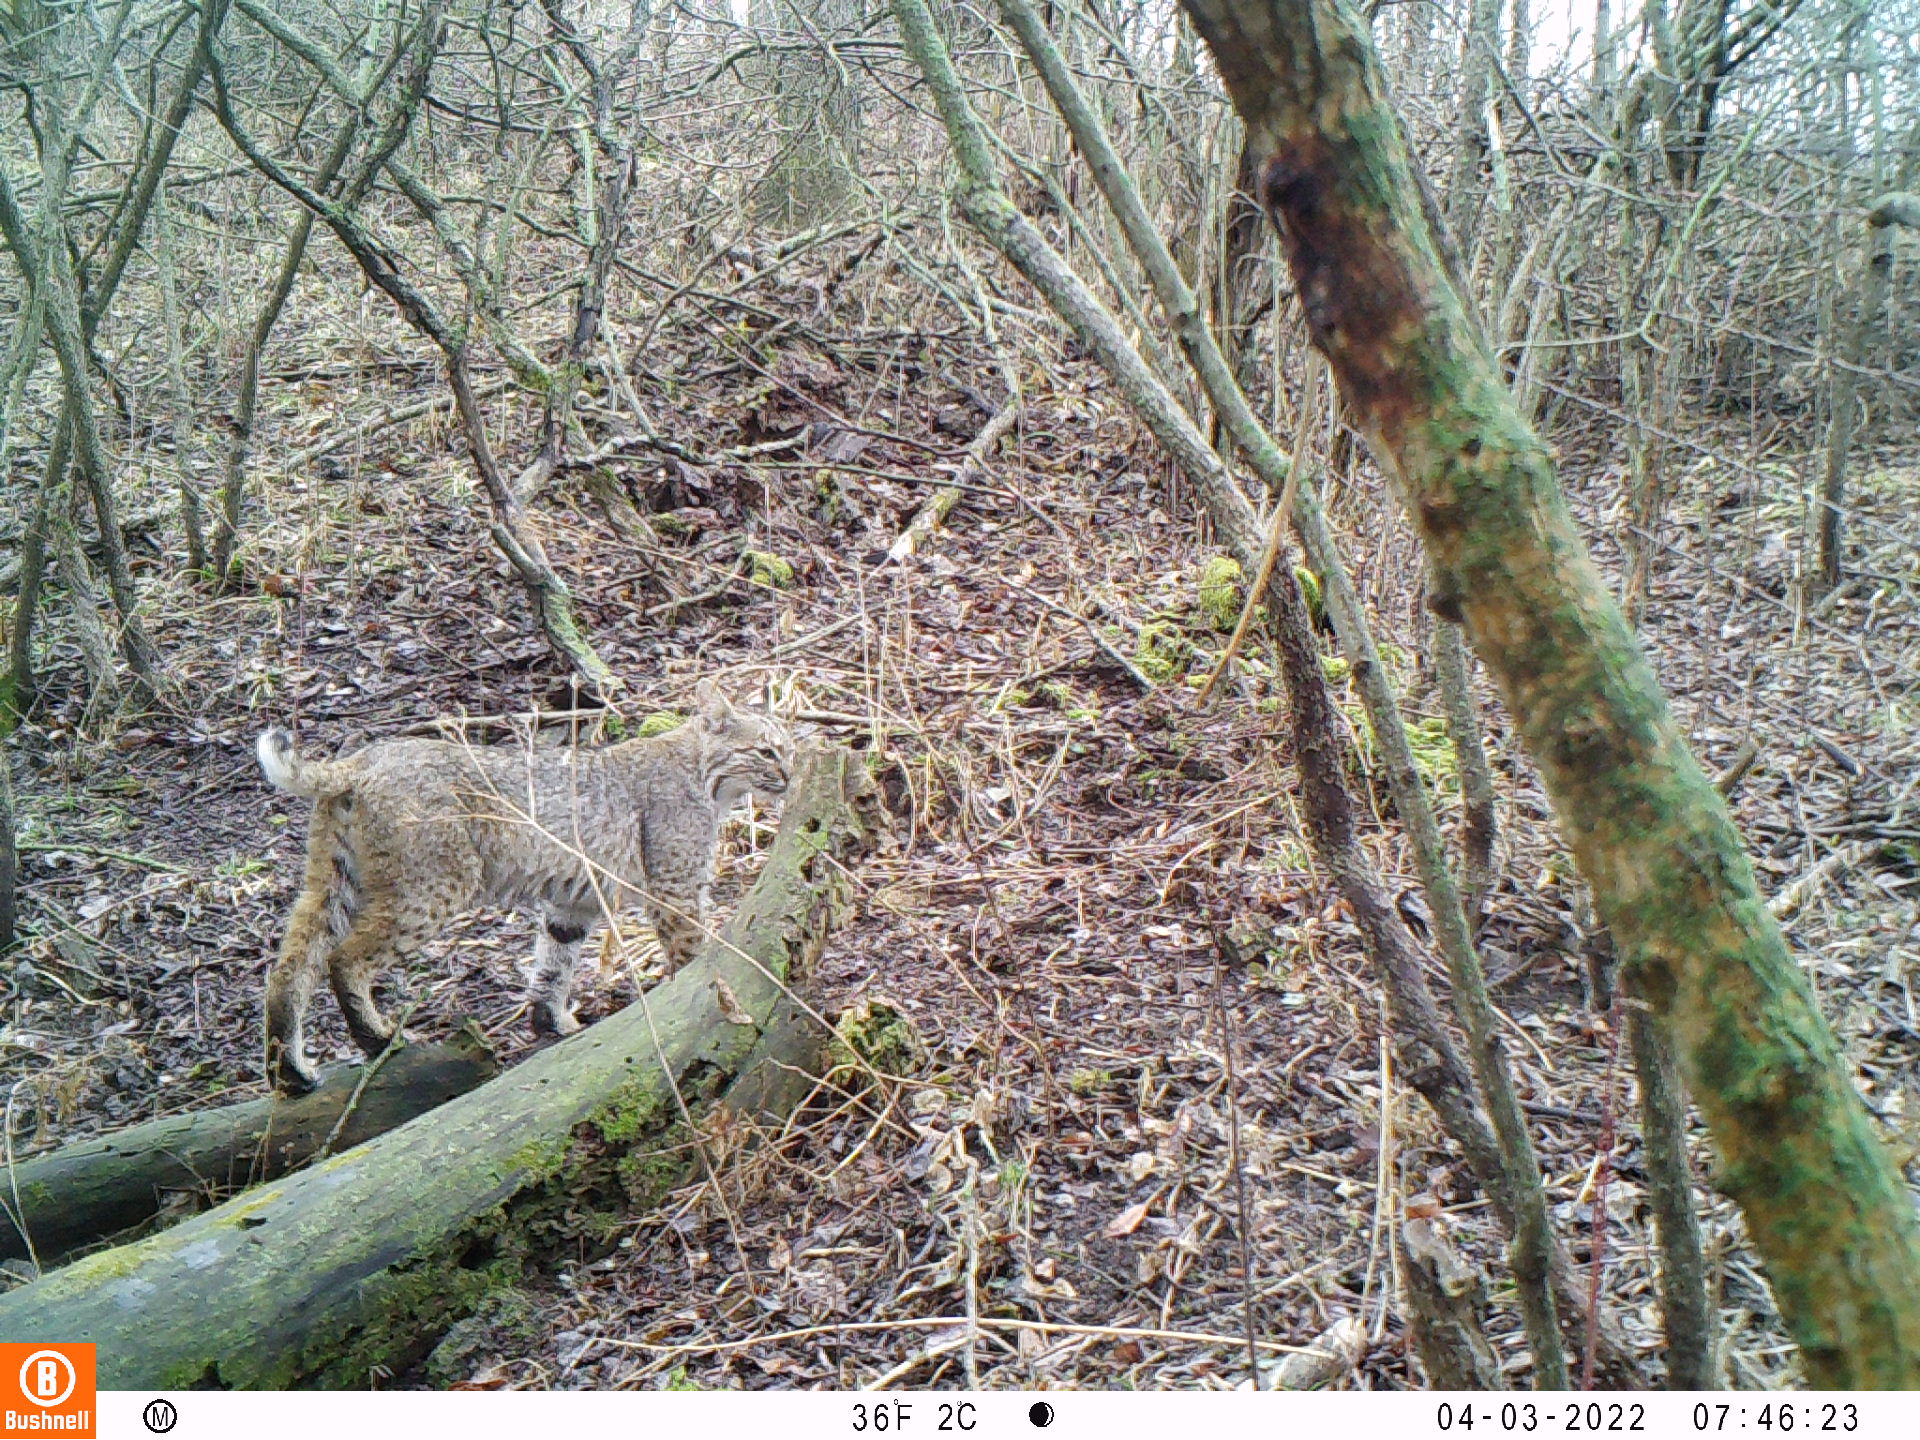Bobcat: (255, 678, 795, 1097)
